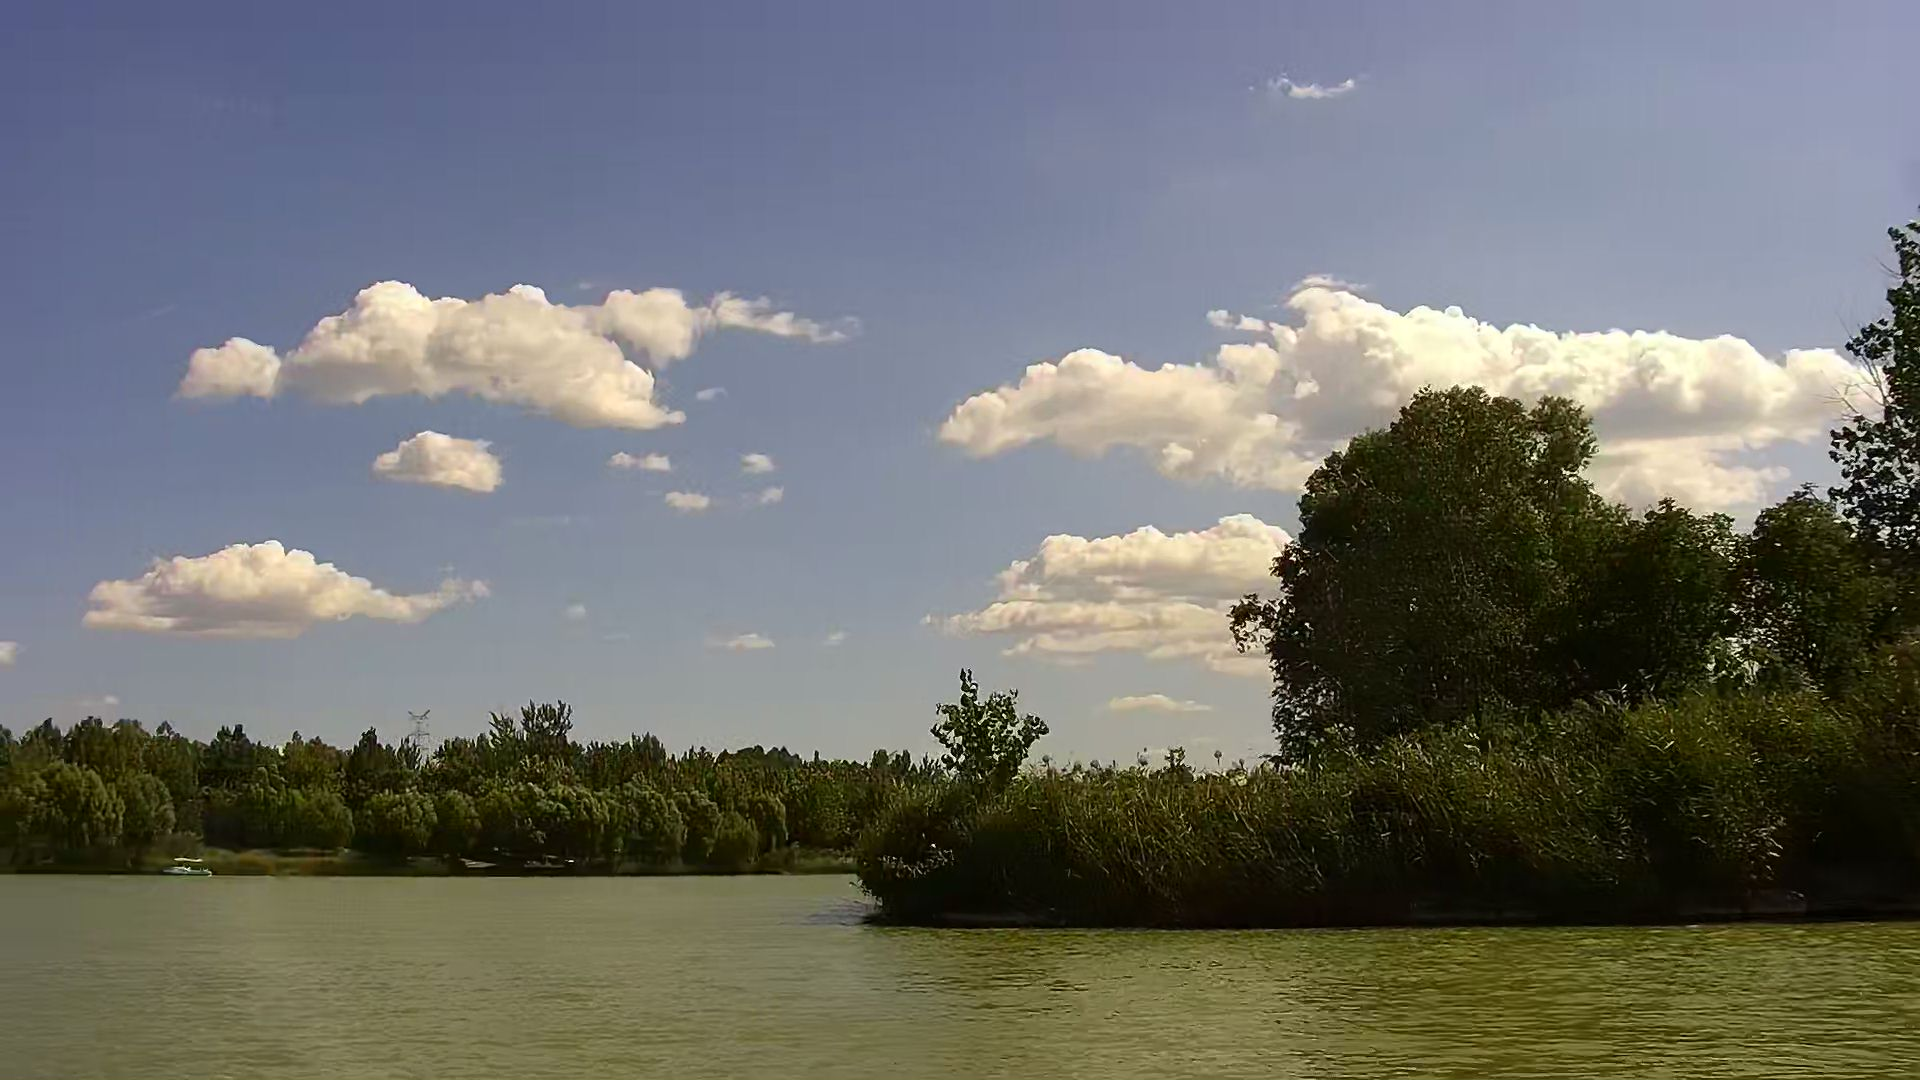boat: (158, 855, 218, 878)
